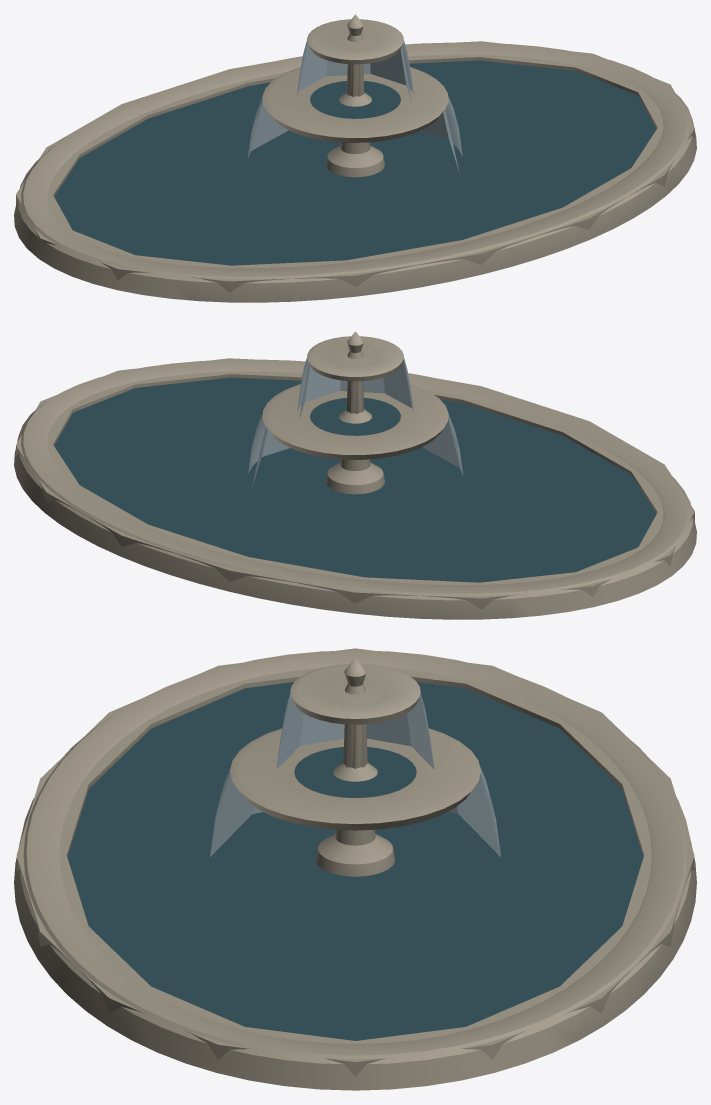
The model's file is estanque.glb.
The picture shows the model from 3 angles, top to bottom: view 1: azimuth 30°, elevation 25°; view 2: azimuth 150°, elevation 25°; view 3: azimuth 270°, elevation 25°; orthographic projection. The views are drawn at different scales.
Parts seen in each view (by area): view 1: hd_water, hd, lo_water, lo, lo_spray, hd_spray; view 2: hd_water, hd, lo_water, lo, lo_spray, hd_spray; view 3: hd_water, hd, lo_water, lo, lo_spray, hd_spray.
Boxes of the visible parts, <box> form: hd_water: <box>54,60,656,265</box>; hd: <box>14,14,696,302</box>; lo_water: <box>56,60,654,265</box>; lo: <box>16,31,694,292</box>; lo_spray: <box>251,43,459,171</box>; hd_spray: <box>247,39,462,158</box>; hd_water: <box>54,377,656,582</box>; hd: <box>14,331,696,619</box>; lo_water: <box>55,377,655,582</box>; lo: <box>16,348,694,609</box>; lo_spray: <box>251,360,459,488</box>; hd_spray: <box>248,356,463,475</box>; hd_water: <box>67,682,642,1040</box>; hd: <box>14,650,696,1090</box>; lo_water: <box>68,682,643,1040</box>; lo: <box>16,648,694,1077</box>; lo_spray: <box>210,693,500,856</box>; hd_spray: <box>210,693,500,855</box>.
Bounding box in the file's own units: 7.84 × 1.98 × 5.44.
